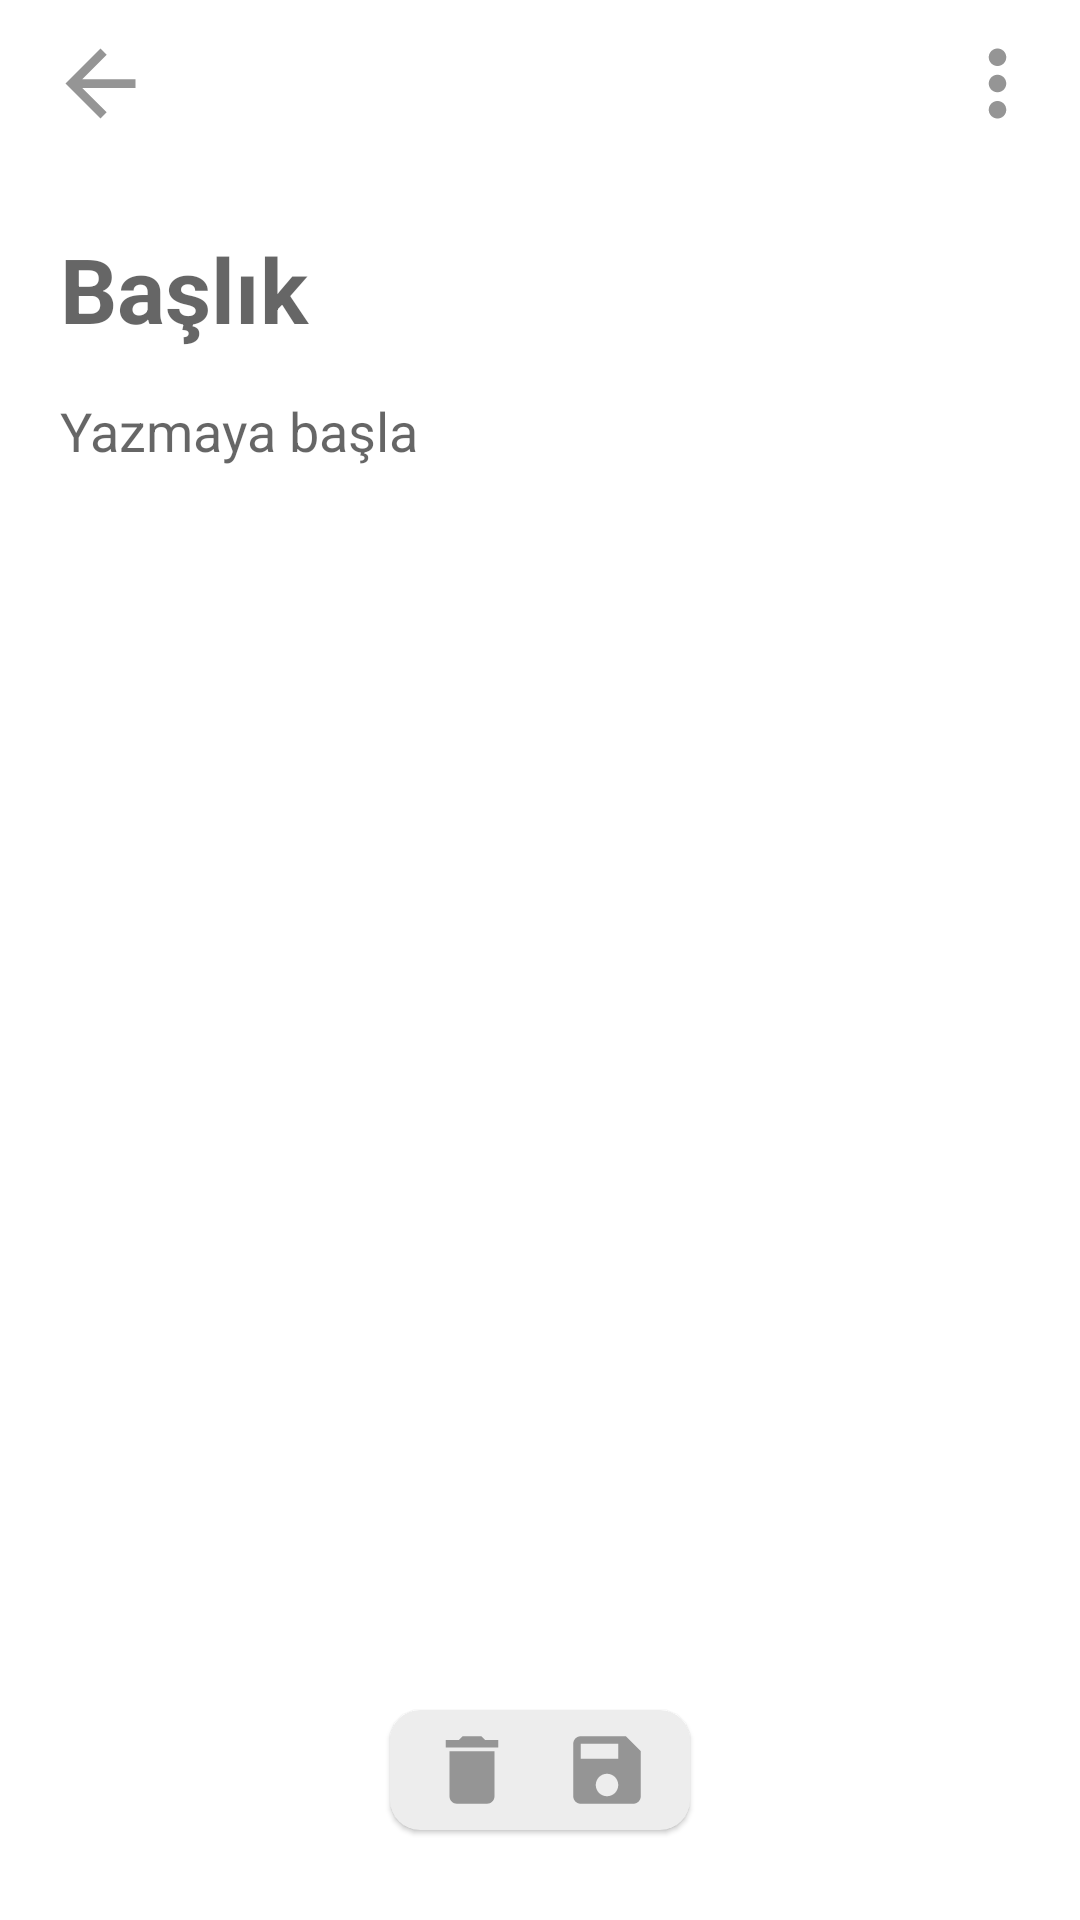

Locate icon controls on the screen. Image size 1080 × 1920, boxes as (x1, y1, x2, y2).
arrow back: (65, 48, 136, 119)
Kaydet: (573, 1736, 641, 1804)
more vert: (988, 48, 1007, 119)
Sil: (446, 1736, 498, 1804)
